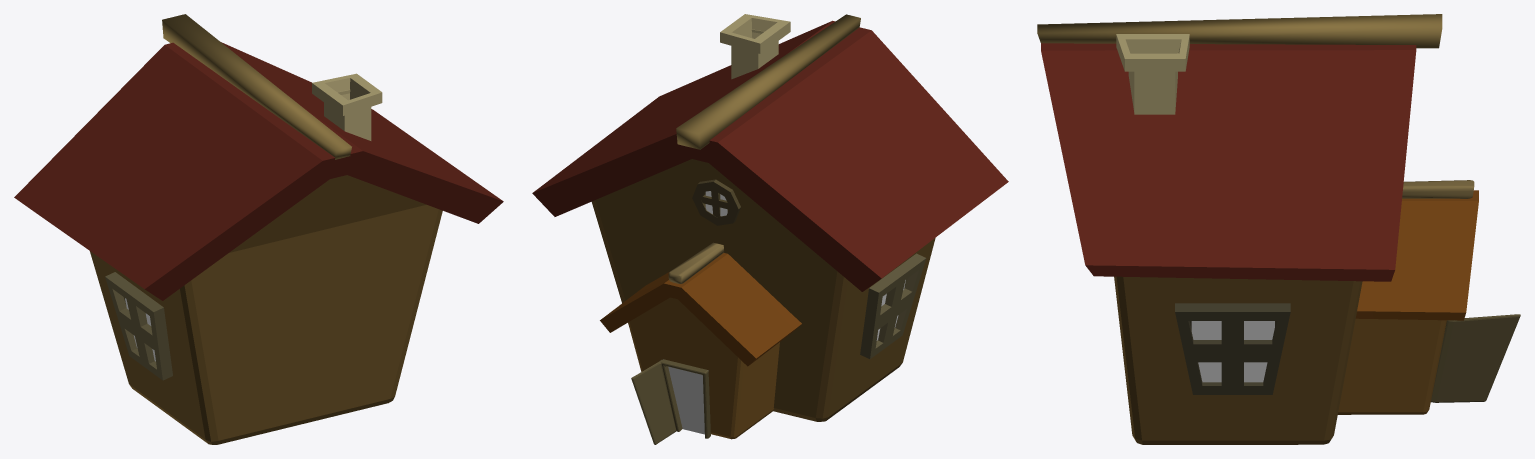
Rendered from Bojdeuca.fbx.
3 renders of one model, left to right at view 1: azimuth 30°, elevation 25°; view 2: azimuth 150°, elevation 25°; view 3: azimuth 270°, elevation 25°, orthographic. The views are drawn at different scales.
Visible parts, largest first — view 1: Plane.009, Plane.001, Plane.002, Plane.004, Plane.008; view 2: Plane.001, Plane.009, Plane.015, Plane.010, Plane.002, Plane.004, Plane.012, Plane.008, Plane.013, Circle, Plane.003; view 3: Plane.001, Plane.009, Plane.010, Plane.002, Plane.015, Plane.006, Plane.012, Plane.008, Plane.017, Plane.003.
Part boxes in pixels (box(x1,y1,x2,y2)): Plane.009: box(90, 175, 442, 444); Plane.001: box(14, 42, 503, 300); Plane.002: box(162, 14, 351, 159); Plane.004: box(105, 272, 172, 380); Plane.008: box(312, 73, 382, 140); Plane.001: box(532, 20, 1008, 291); Plane.009: box(592, 159, 935, 421); Plane.015: box(628, 297, 779, 439); Plane.010: box(600, 253, 801, 366); Plane.002: box(676, 14, 860, 149); Plane.004: box(860, 253, 926, 358); Plane.012: box(631, 359, 710, 444); Plane.008: box(720, 14, 790, 79); Plane.013: box(663, 359, 708, 434); Circle: box(692, 179, 740, 225); Plane.003: box(668, 242, 724, 283); Plane.001: box(1041, 43, 1416, 281); Plane.009: box(1114, 276, 1362, 444); Plane.010: box(1355, 190, 1478, 320); Plane.002: box(1037, 14, 1442, 48); Plane.015: box(1338, 318, 1446, 414); Plane.006: box(1175, 303, 1290, 394); Plane.012: box(1431, 314, 1520, 402); Plane.008: box(1116, 34, 1189, 114); Plane.017: box(1191, 321, 1274, 382); Plane.003: box(1402, 180, 1474, 198).
Size of the model in its own units: 296 by 251 by 290.
